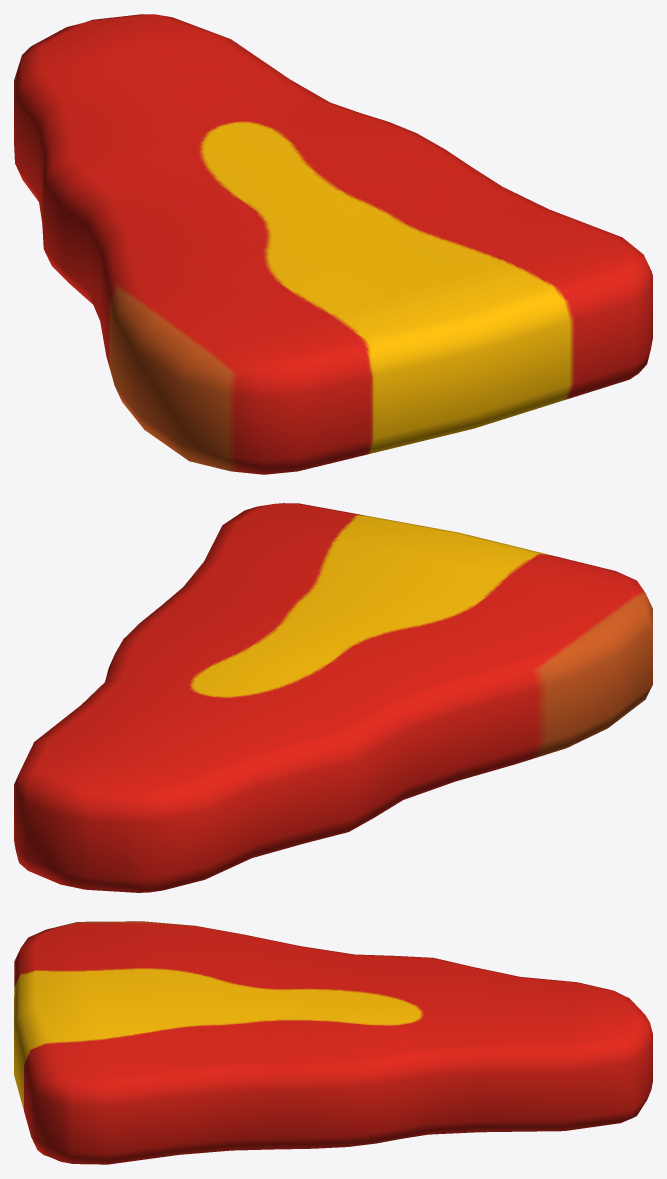
File: flame5.fbx
3 views of the same model, one above another, from view 1: azimuth 30°, elevation 25°; view 2: azimuth 150°, elevation 25°; view 3: azimuth 270°, elevation 25° (orthographic). The views are drawn at different scales.
Parts seen in each view (by area): view 1: flame_5; view 2: flame_5; view 3: flame_5.
Part boxes in pixels (bbox=[...]): flame_5: bbox=[14, 14, 652, 474]; flame_5: bbox=[14, 503, 652, 892]; flame_5: bbox=[14, 921, 652, 1164].
Size of the model in its own units: 51.5 by 11.95 by 79.98.
